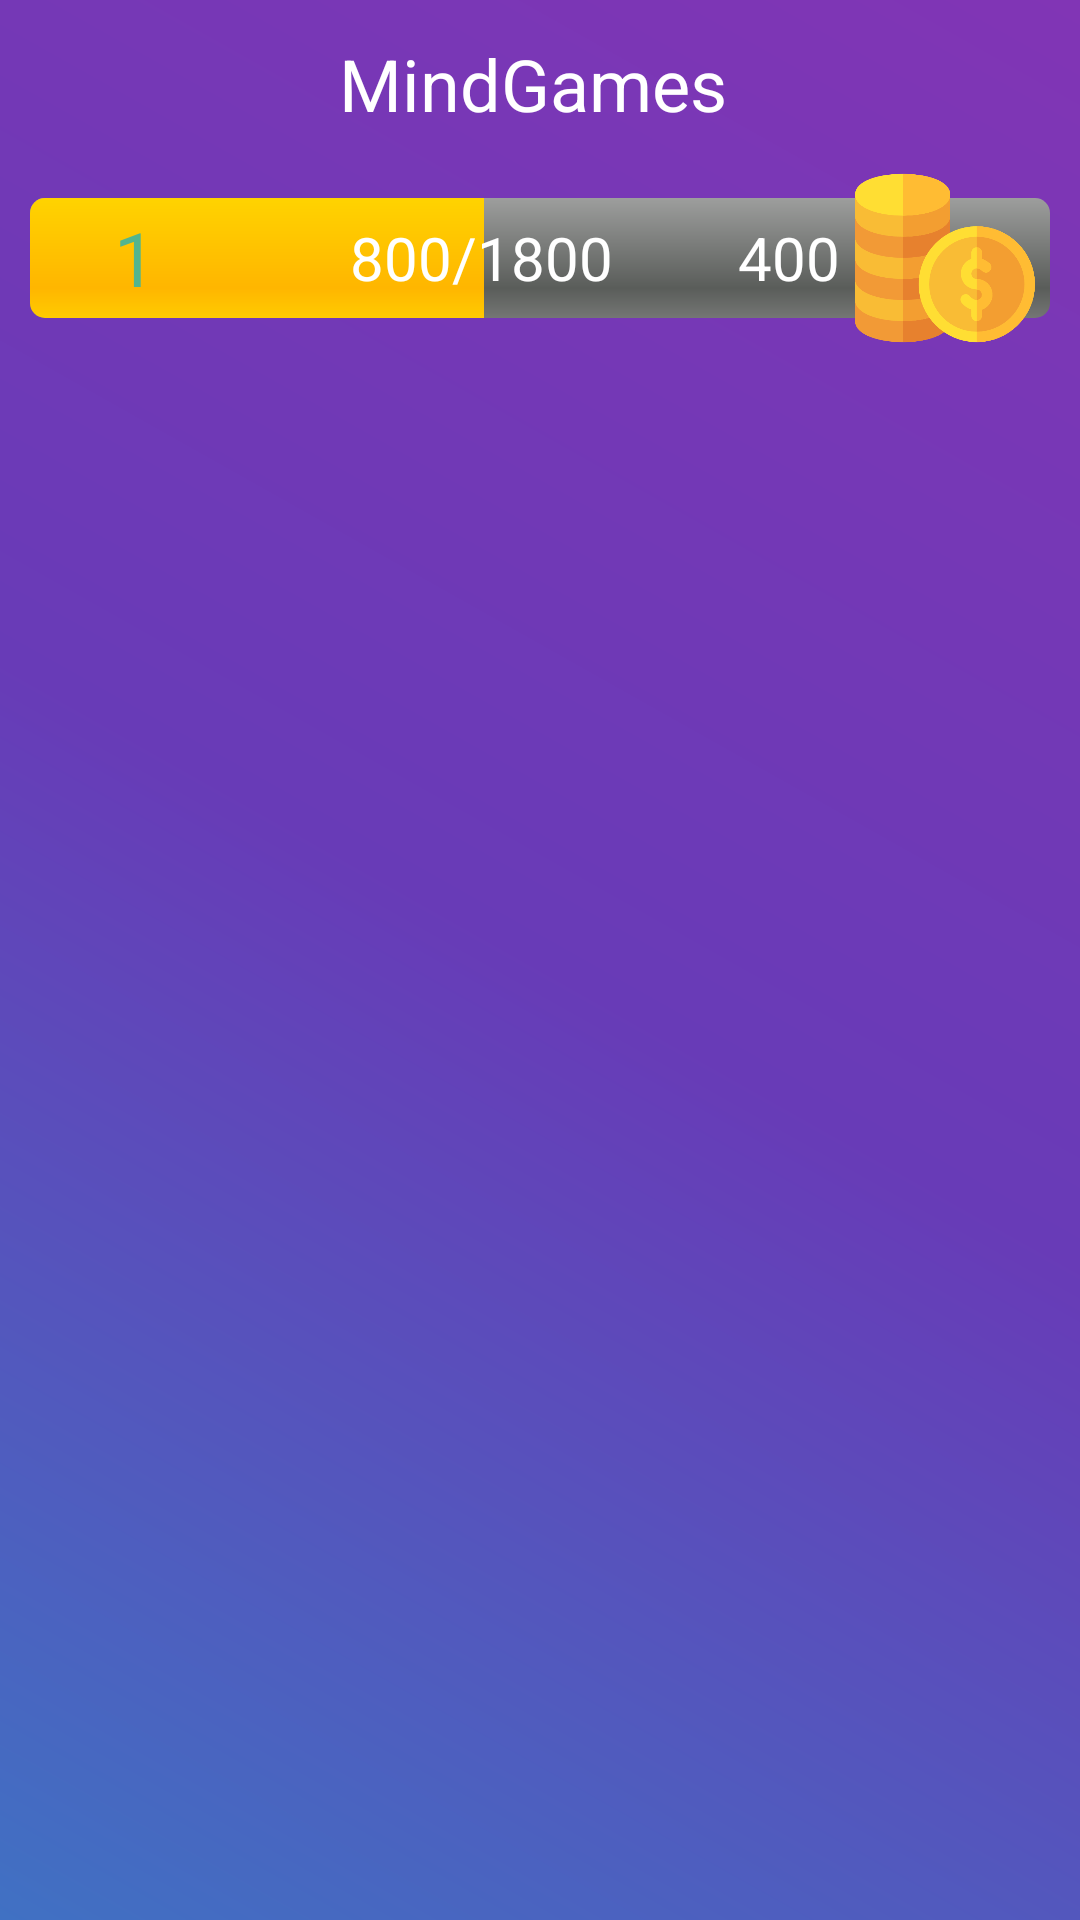

Screen size 1080*1920. Icon name, then its box in pixels as detection(x1, y1, x2, y2):
coins: detection(855, 174, 1035, 342)
